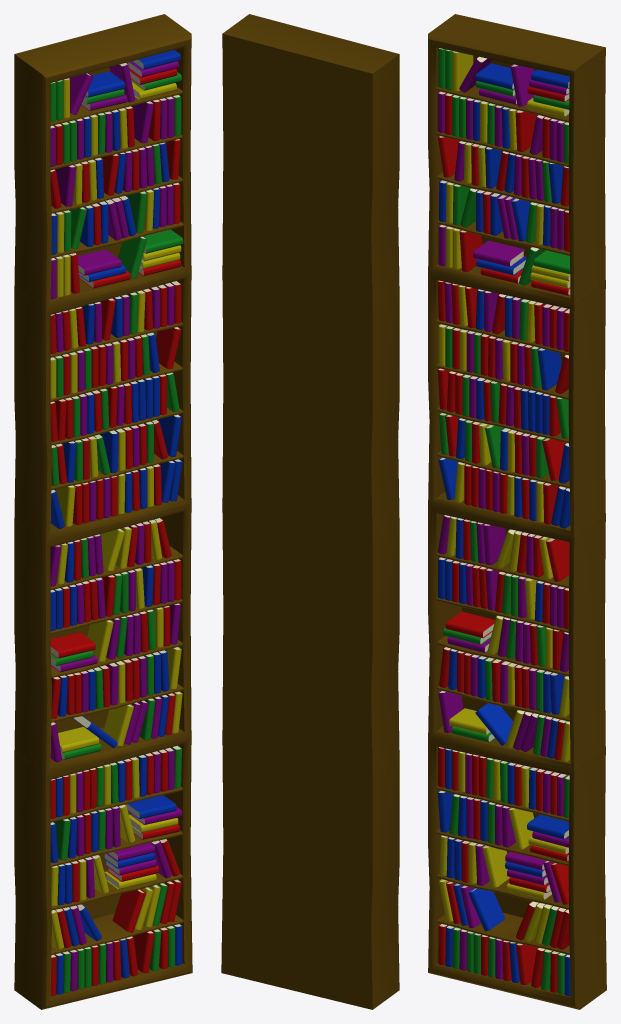
The model's file is bookshelf_b.fbx.
3 renders of one model, left to right at view 1: azimuth 30°, elevation 25°; view 2: azimuth 150°, elevation 25°; view 3: azimuth 330°, elevation 25°, orthographic.
Visible parts, largest first — view 1: books, shelf; view 2: shelf; view 3: books, shelf.
Boxes of the visible parts, x1,y1,x2,y2 form: books: (50, 49, 183, 996); shelf: (14, 14, 192, 1009); shelf: (221, 14, 399, 1009); books: (437, 48, 570, 996); shelf: (428, 14, 606, 1009).
Size of the model in its own units: 94.85 by 563 by 31.41.
